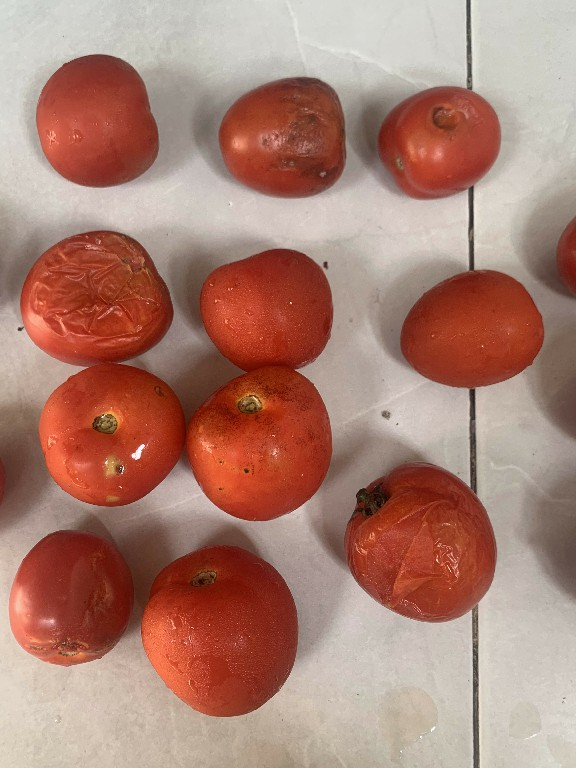NG: (335, 459, 513, 629), (31, 360, 192, 514), (189, 363, 337, 520), (13, 222, 173, 360), (208, 63, 358, 205), (5, 523, 141, 673), (377, 73, 504, 216), (332, 509, 340, 526)
OK: (147, 537, 309, 724), (394, 260, 551, 395), (195, 243, 340, 372), (29, 47, 161, 184)
